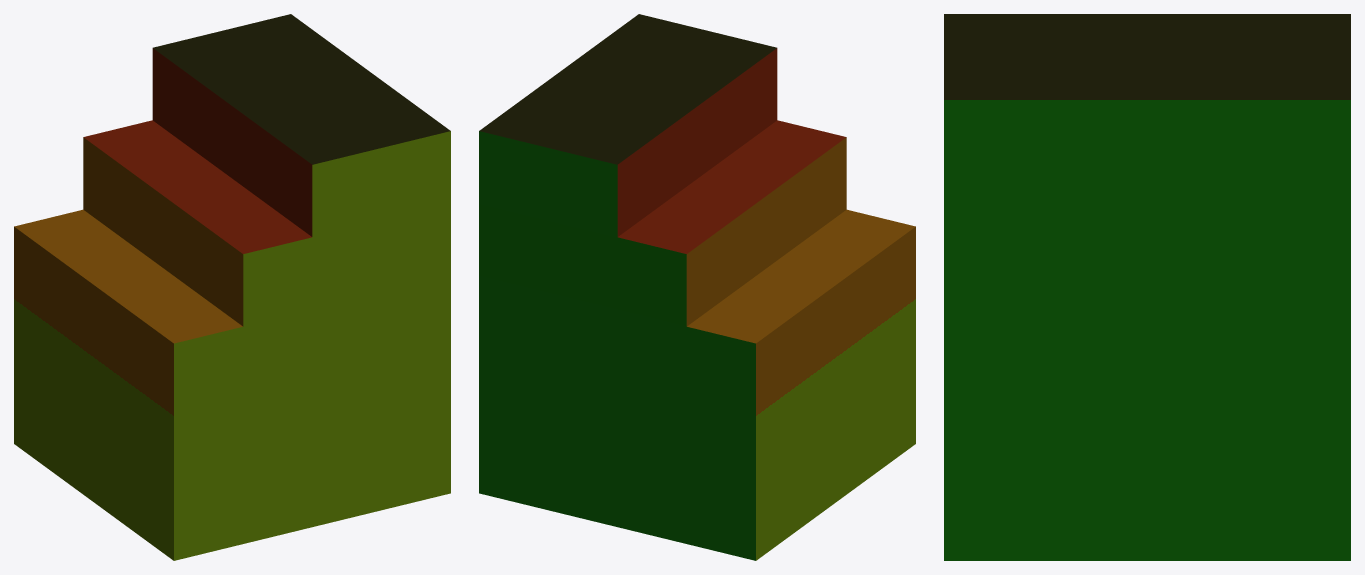
File: block_26.fbx
3 views of the same model, side by side, from view 1: azimuth 30°, elevation 25°; view 2: azimuth 150°, elevation 25°; view 3: azimuth 270°, elevation 25° (orthographic). The views are drawn at different scales.
Visible parts, largest first — view 1: box.011; view 2: box.011; view 3: box.011.
Part boxes in pixels (bbox=[...]): box.011: bbox=[14, 14, 450, 560]; box.011: bbox=[479, 14, 915, 560]; box.011: bbox=[944, 14, 1350, 560].
Size of the model in its own units: 400 by 500 by 400.
